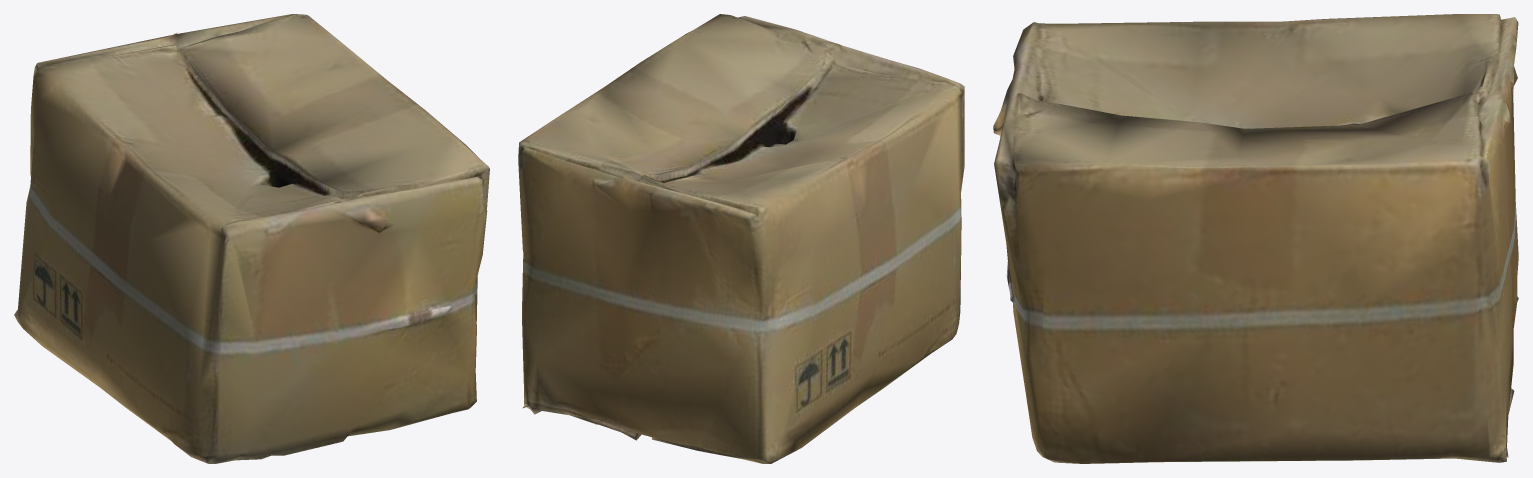
File: cardboard_box.glb
3 views of the same model, side by side, from view 1: azimuth 30°, elevation 25°; view 2: azimuth 150°, elevation 25°; view 3: azimuth 270°, elevation 25° (orthographic). The views are drawn at different scales.
Visible parts, largest first — view 1: cardboard_box_01; view 2: cardboard_box_01; view 3: cardboard_box_01.
Boxes of the visible parts, left/top/right/bottom form: cardboard_box_01: left=14, top=14, right=489, bottom=463; cardboard_box_01: left=518, top=14, right=964, bottom=463; cardboard_box_01: left=993, top=14, right=1518, bottom=463.
Size of the model in its own units: 0.3855 by 0.3407 by 0.5159.
1 material, 1 textured.
